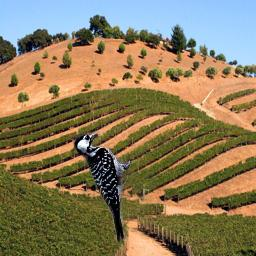Woodpecker: (73, 130, 130, 241)
